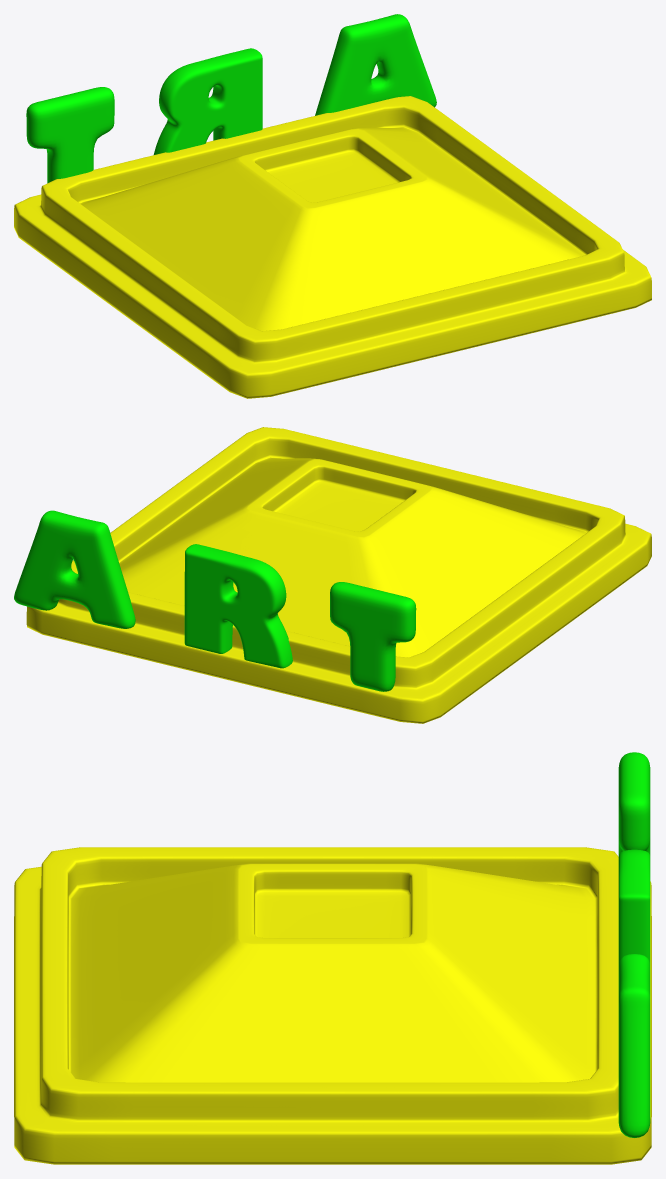
3 renders of one model, top to bottom at view 1: azimuth 30°, elevation 25°; view 2: azimuth 150°, elevation 25°; view 3: azimuth 270°, elevation 25°, orthographic. The views are drawn at different scales.
Visible parts, largest first — view 1: typeMesh4; view 2: typeMesh4; view 3: typeMesh4.
Boxes of the visible parts, left/top/right/bottom form: typeMesh4: left=14, top=14, right=651, bottom=398; typeMesh4: left=14, top=427, right=651, bottom=723; typeMesh4: left=14, top=752, right=651, bottom=1164.
Size of the model in its own units: 1.02 by 0.2809 by 0.9998.
